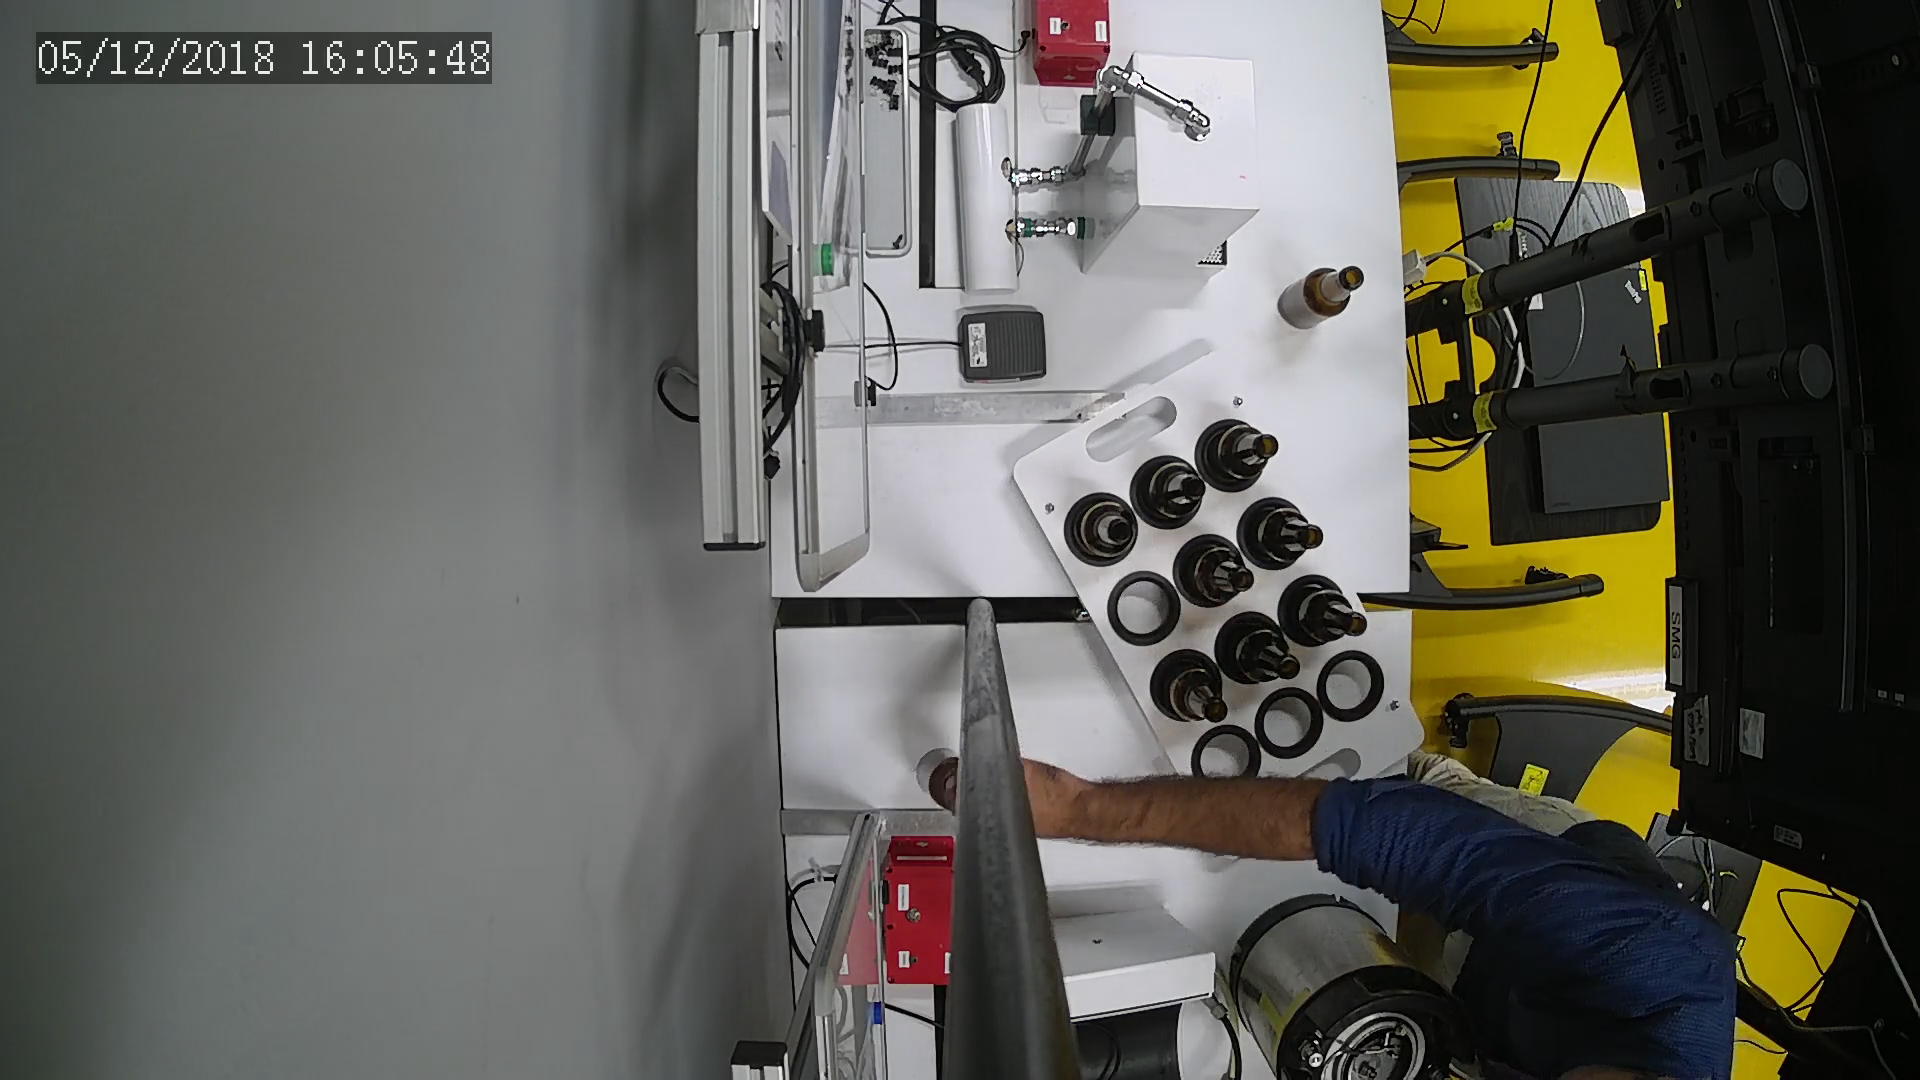filled_bottle: (1283, 574, 1374, 651), (1220, 615, 1308, 690), (1199, 415, 1280, 495), (1062, 491, 1145, 568), (1241, 497, 1327, 572), (1153, 649, 1228, 732), (1131, 458, 1215, 530), (1176, 531, 1255, 607)
trolley: (1007, 347, 1424, 876)
unfilled_bottle: (1276, 265, 1366, 334)
